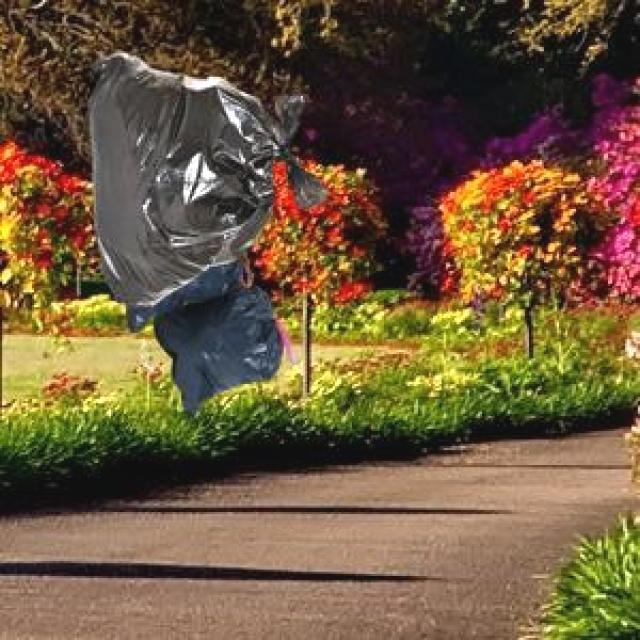Trashbag: (85, 44, 328, 312), (146, 284, 291, 418)
